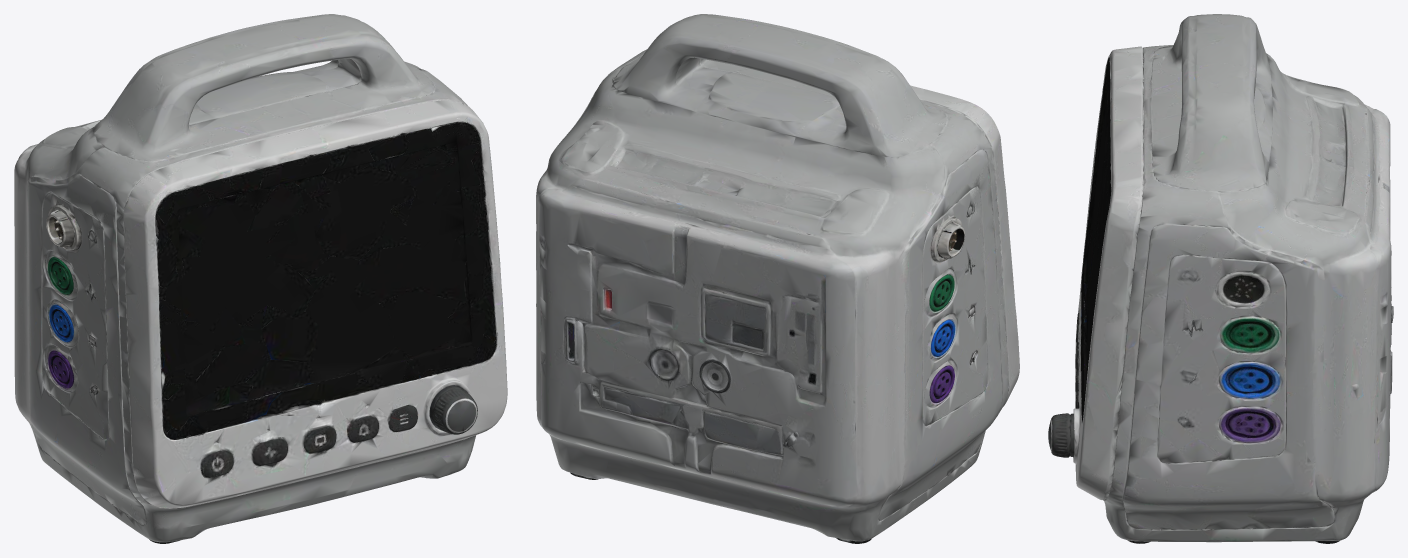
Rendered from monitor.glb.
3 renders of one model, left to right at view 1: azimuth 30°, elevation 25°; view 2: azimuth 150°, elevation 25°; view 3: azimuth 270°, elevation 25°, orthographic. The views are drawn at different scales.
Bounding box in the file's own units: 1.73 × 1.9 × 1.41.
1 material, 1 textured.
